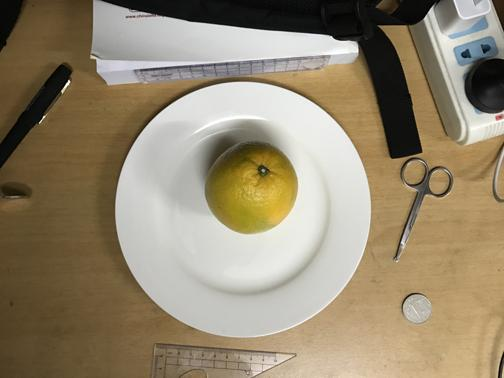coin: (400, 291, 432, 324)
orange: (202, 139, 299, 233)
